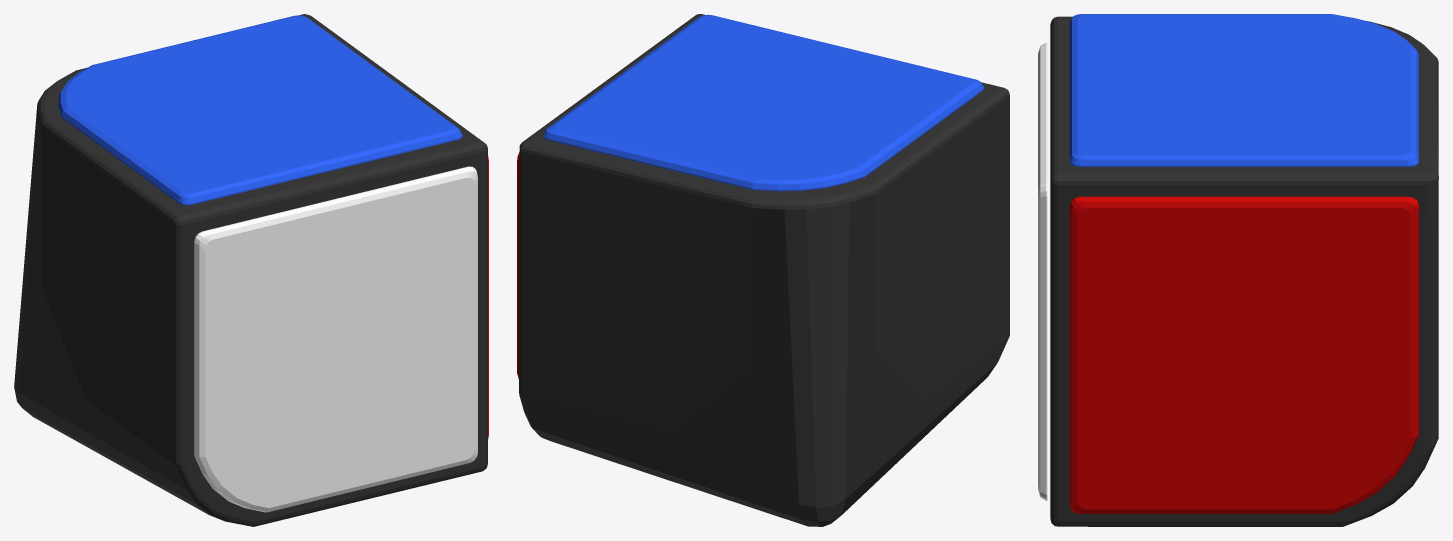
The picture shows the model from 3 angles, left to right: view 1: azimuth 30°, elevation 25°; view 2: azimuth 150°, elevation 25°; view 3: azimuth 270°, elevation 25°; orthographic projection. The views are drawn at different scales.
Visible parts, largest first — view 1: Cube.072, Cube.014, Cube.062; view 2: Cube.014, Cube.062; view 3: Cube.034, Cube.062, Cube.014, Cube.072.
Boxes of the visible parts, x1,y1,x2,y2 form: Cube.072: (194, 166, 477, 512); Cube.014: (14, 14, 487, 526); Cube.062: (58, 15, 462, 205); Cube.014: (519, 14, 1009, 526); Cube.062: (543, 14, 984, 191); Cube.034: (1069, 196, 1418, 513); Cube.062: (1069, 14, 1418, 166); Cube.014: (1050, 16, 1438, 526); Cube.072: (1038, 43, 1047, 500).
Size of the model in its own units: 206 by 206 by 207.
